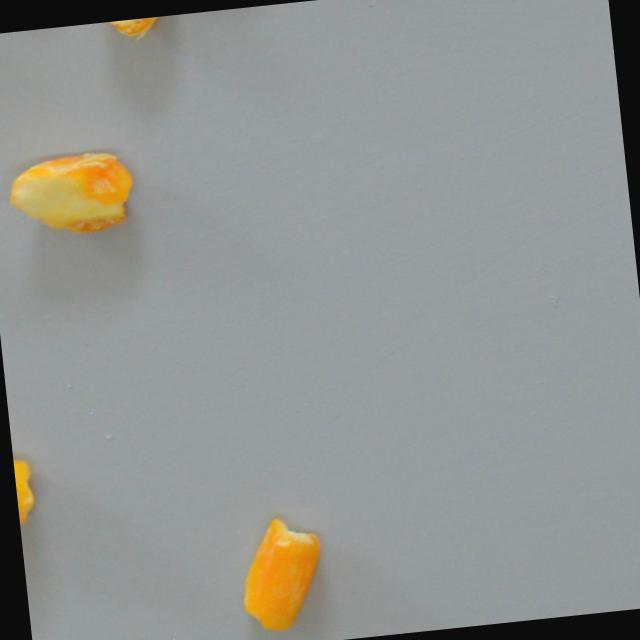pelicula: (0, 125, 142, 255), (214, 510, 342, 638), (11, 437, 37, 554)
